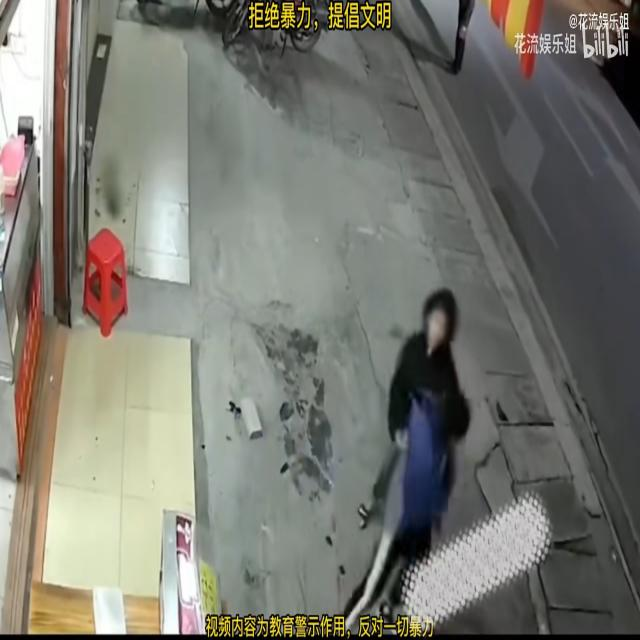fight: (389, 283, 464, 560)
